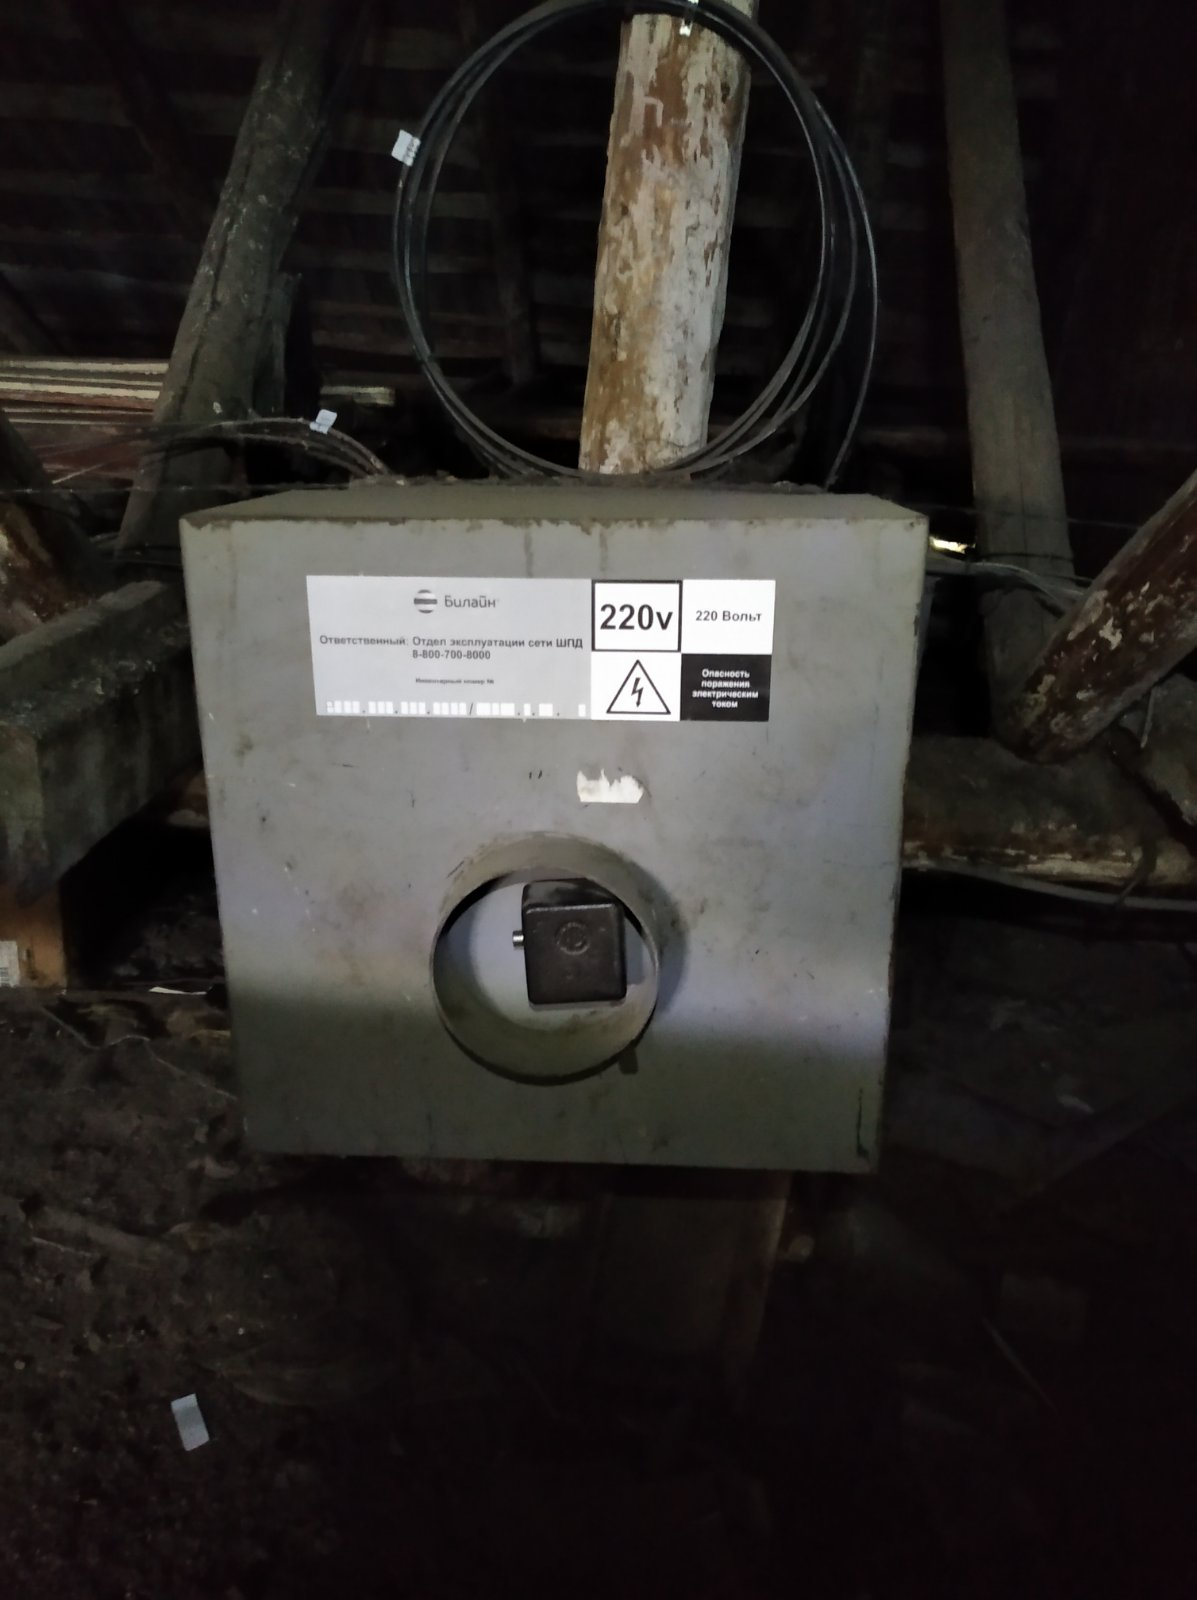shta-9: (157, 450, 949, 1186)
